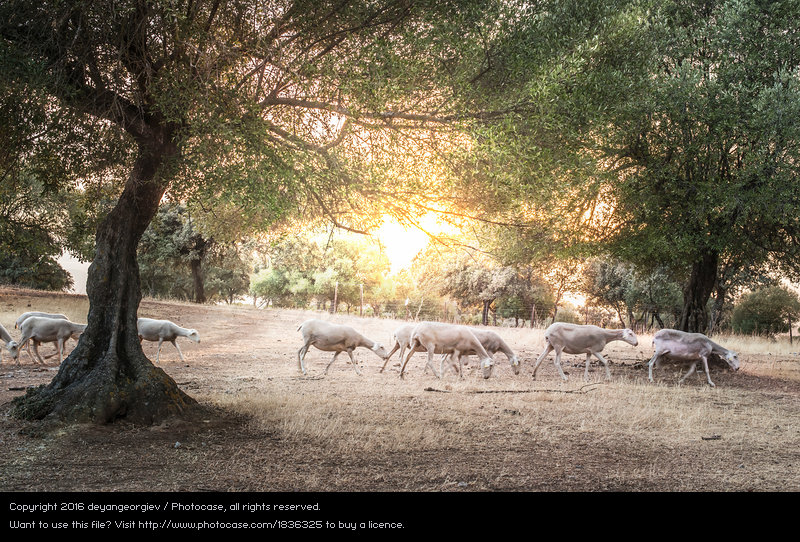sheep: (529, 316, 640, 383), (294, 315, 389, 379), (399, 319, 494, 383), (647, 327, 741, 388), (133, 315, 203, 368), (17, 314, 91, 363), (472, 324, 522, 375), (1, 324, 22, 361)
